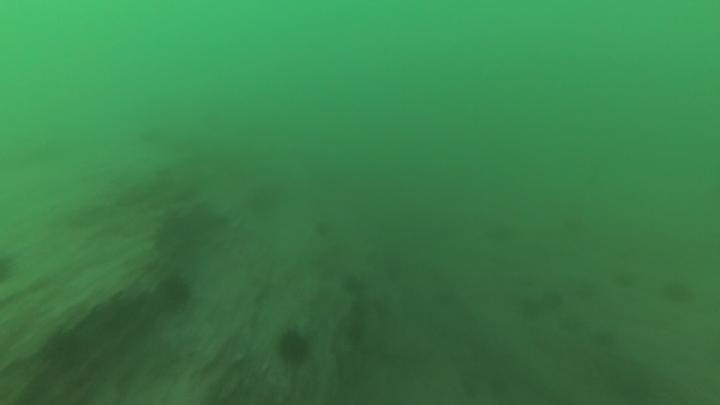echinus: (40, 327, 86, 372), (243, 180, 286, 223), (274, 326, 314, 368), (155, 272, 194, 312), (660, 277, 696, 307), (516, 294, 545, 323), (537, 287, 567, 315), (339, 271, 369, 299)
